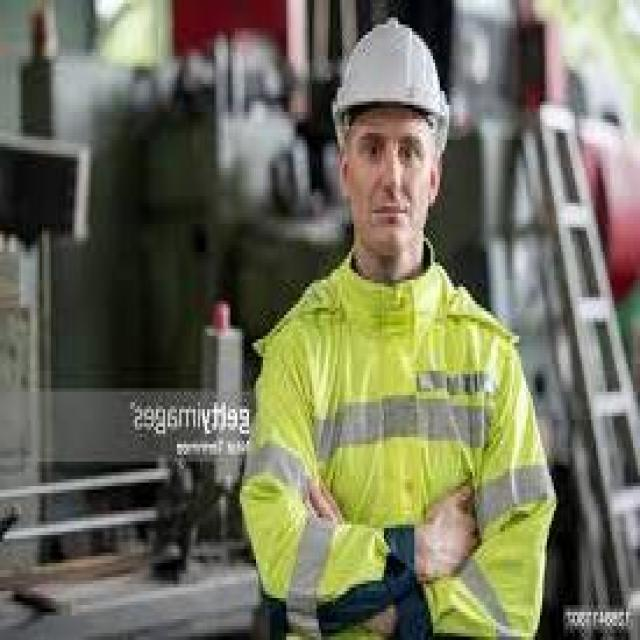Reflective-Jacket: (231, 266, 558, 626)
Safety-Helmet: (328, 17, 456, 133)
